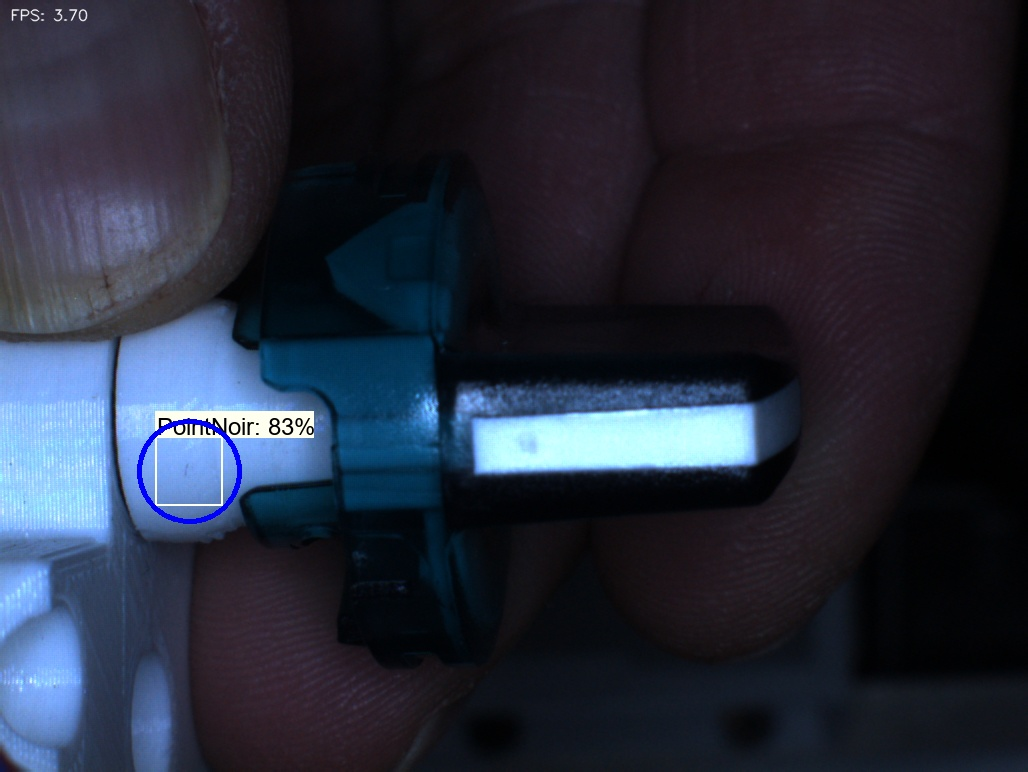DentOk: (289, 198, 374, 317)
